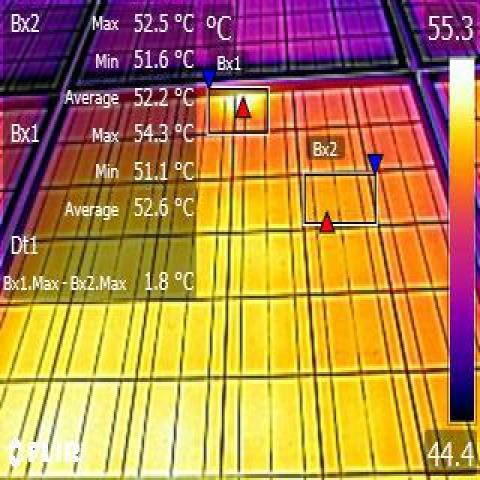fault: (209, 87, 232, 120)
